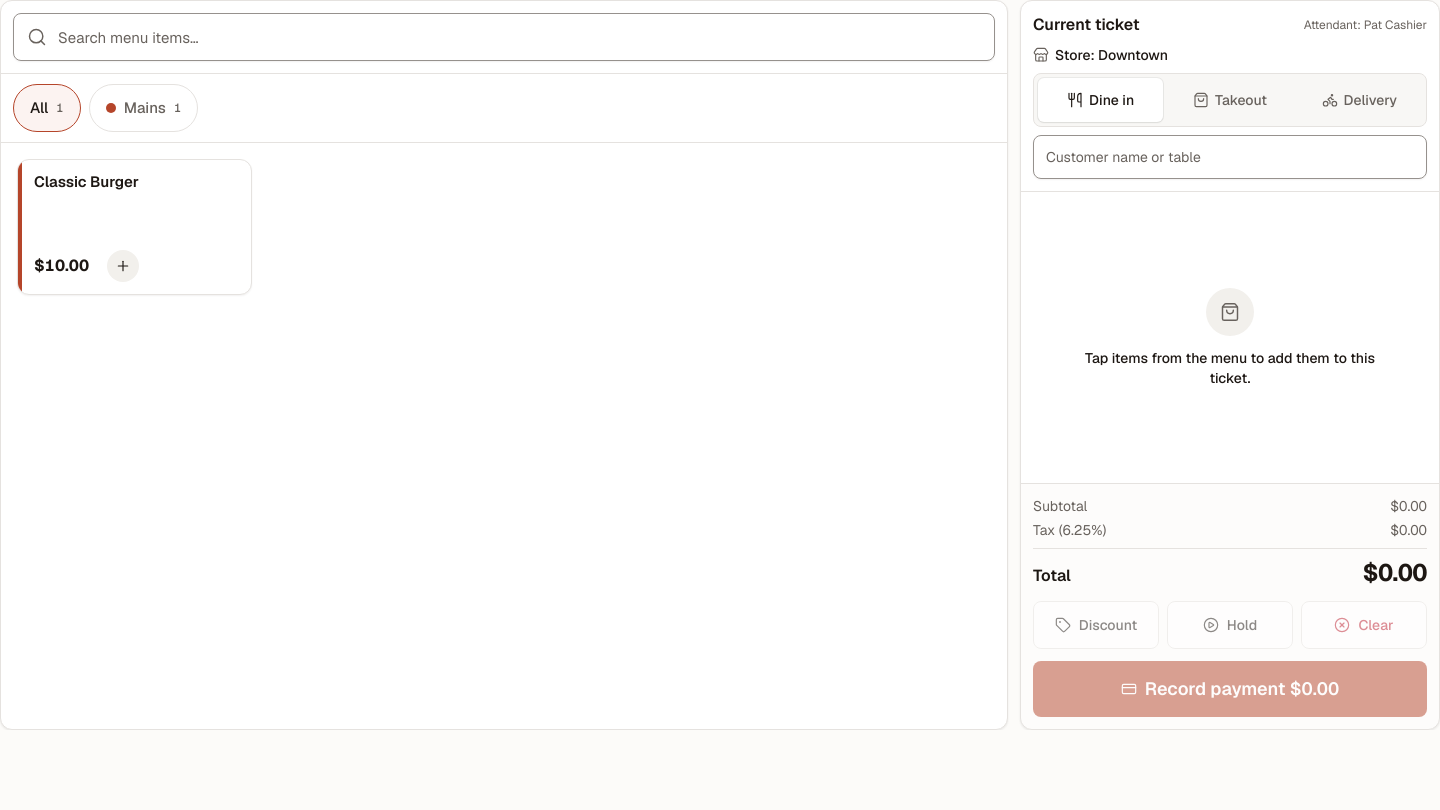
it: register feedback (redesign phase 5) › each tap shows on the tile and is announced, without a toast per item
The width and height of the screenshot is (1440, 810).
What coordinates should you click on to do the following:
click the button with aria-label "Add Classic Burger,"
I would click on:
 (134, 227)
Its box is [17,159,252,295].
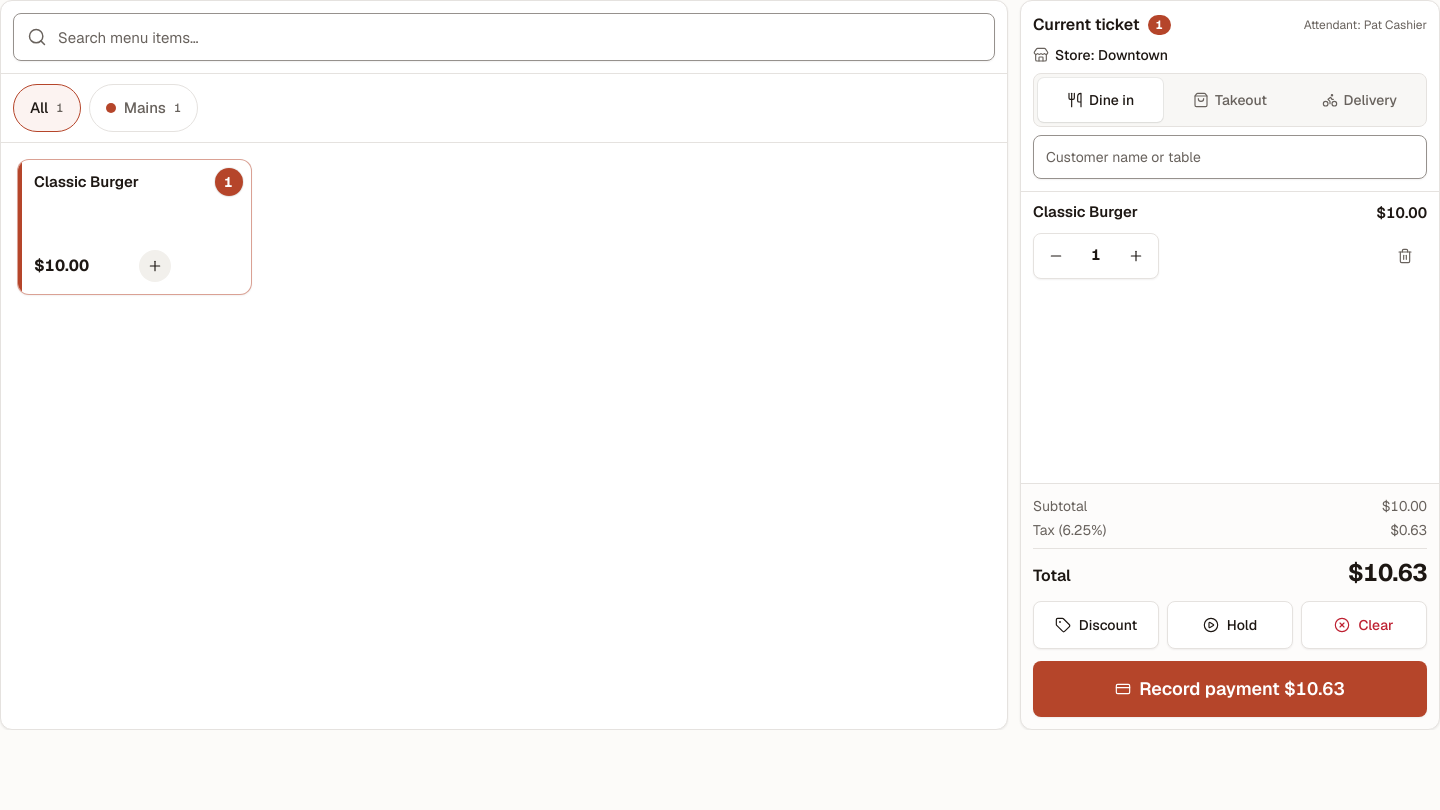
What coordinates should you click on to do the following:
click the button with aria-label "Add Classic Burger,"
I would click on:
 (134, 227)
Its box is [17,159,252,295].
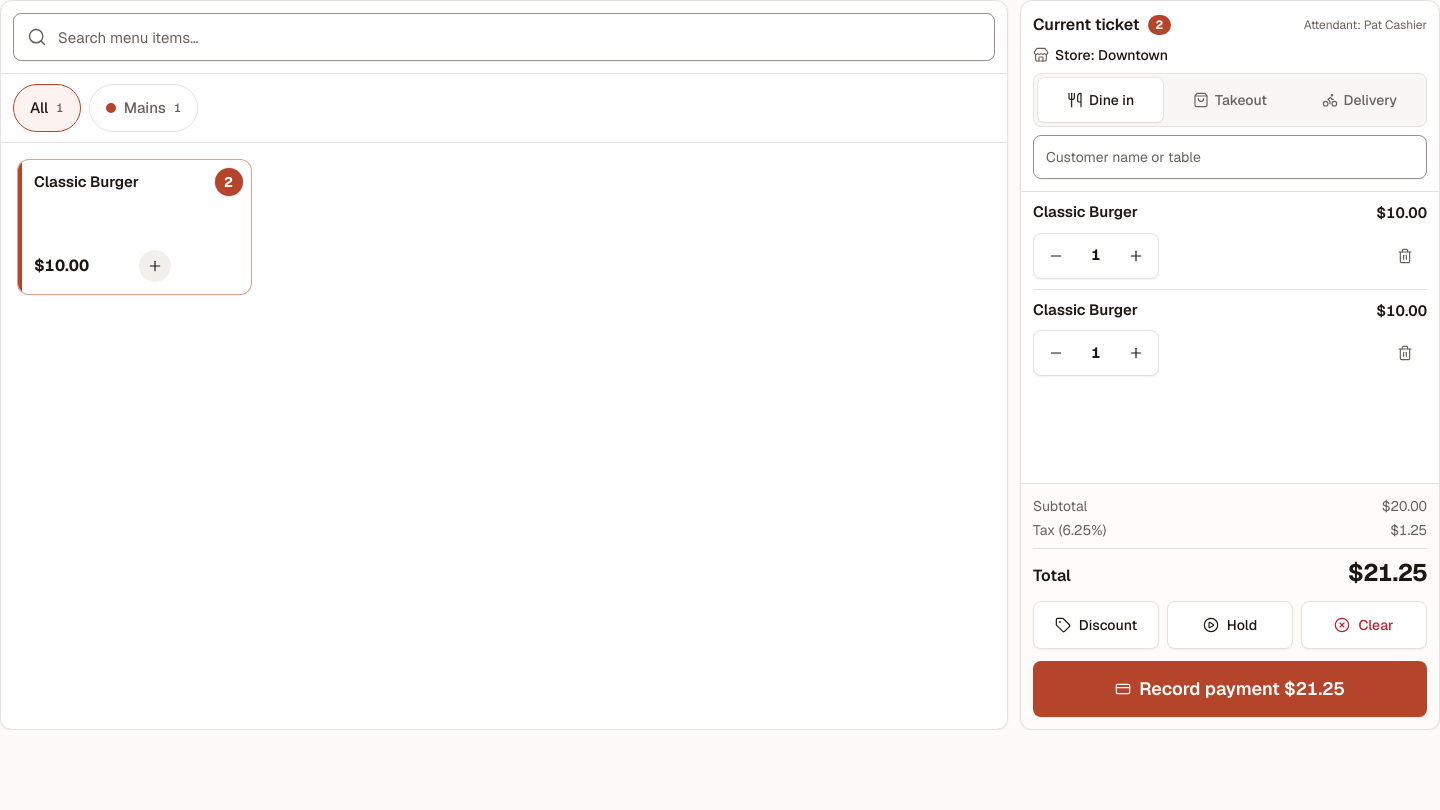
expect the button "Record payment $21.25" is enabled: met, box [1033,661,1427,717]
expect the button with aria-label "Add Classic Burger," shows "2": met, box [17,159,252,295]
